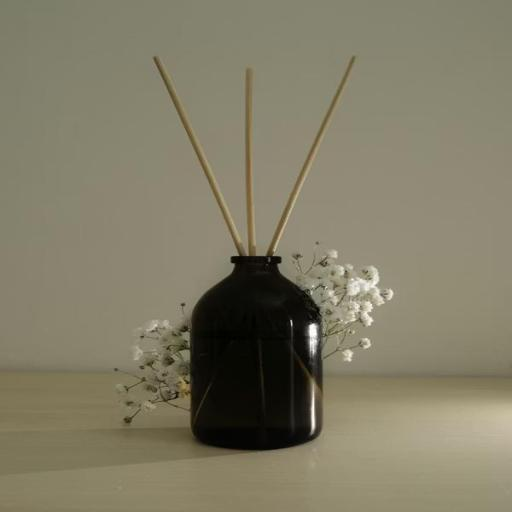bottle: (166, 246, 350, 458)
